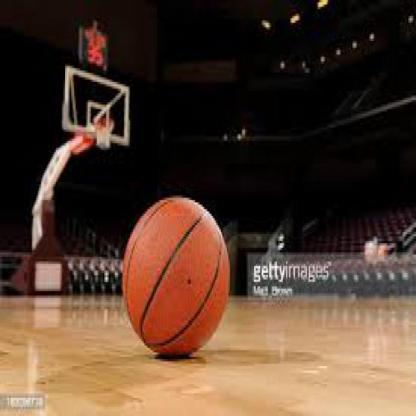basketball: (121, 198, 230, 362)
rim: (94, 116, 115, 127)
